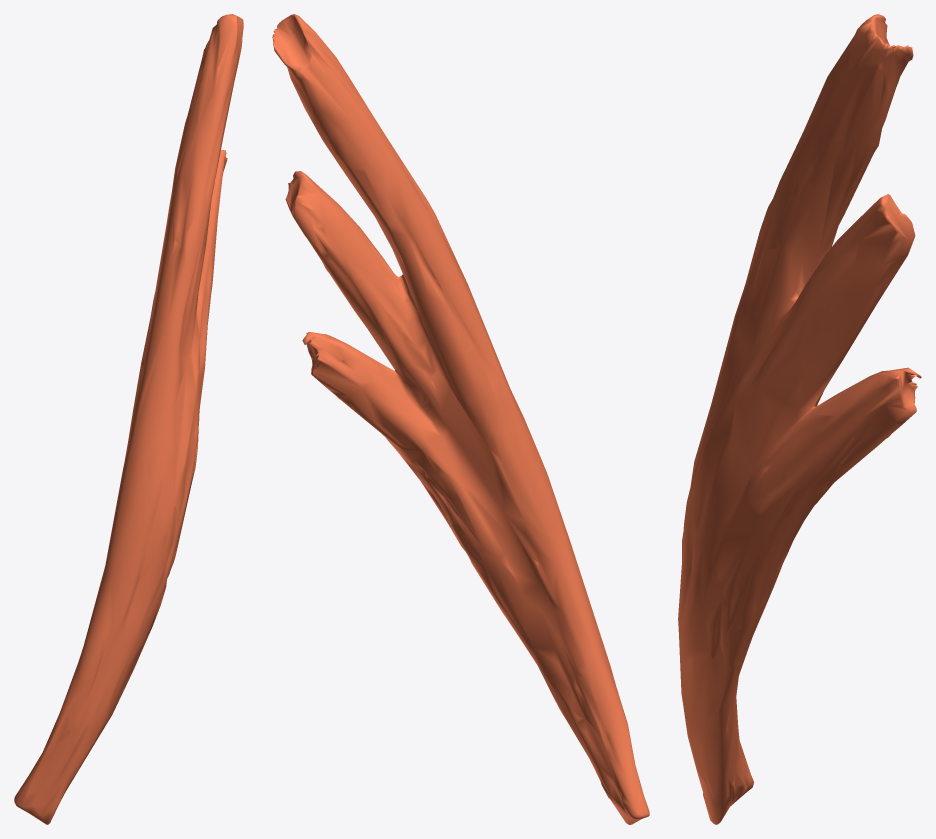
Rendered from Scalene_anterior_muscle.r_Generated_Mesh_From_X3D.237.glb.
The picture shows the model from 3 angles, left to right: view 1: azimuth 30°, elevation 25°; view 2: azimuth 150°, elevation 25°; view 3: azimuth 270°, elevation 25°; orthographic projection. The views are drawn at different scales.
Parts seen in each view (by area): view 1: Scalene_anterior_muscle.r_Generated_Mesh_From_X3D.237; view 2: Scalene_anterior_muscle.r_Generated_Mesh_From_X3D.237; view 3: Scalene_anterior_muscle.r_Generated_Mesh_From_X3D.237.
Boxes of the visible parts, <box> form: Scalene_anterior_muscle.r_Generated_Mesh_From_X3D.237: <box>14,14,243,824</box>; Scalene_anterior_muscle.r_Generated_Mesh_From_X3D.237: <box>272,14,649,824</box>; Scalene_anterior_muscle.r_Generated_Mesh_From_X3D.237: <box>678,14,921,824</box>.
Size of the model in its own units: 0.0343 by 0.0828 by 0.0189.
